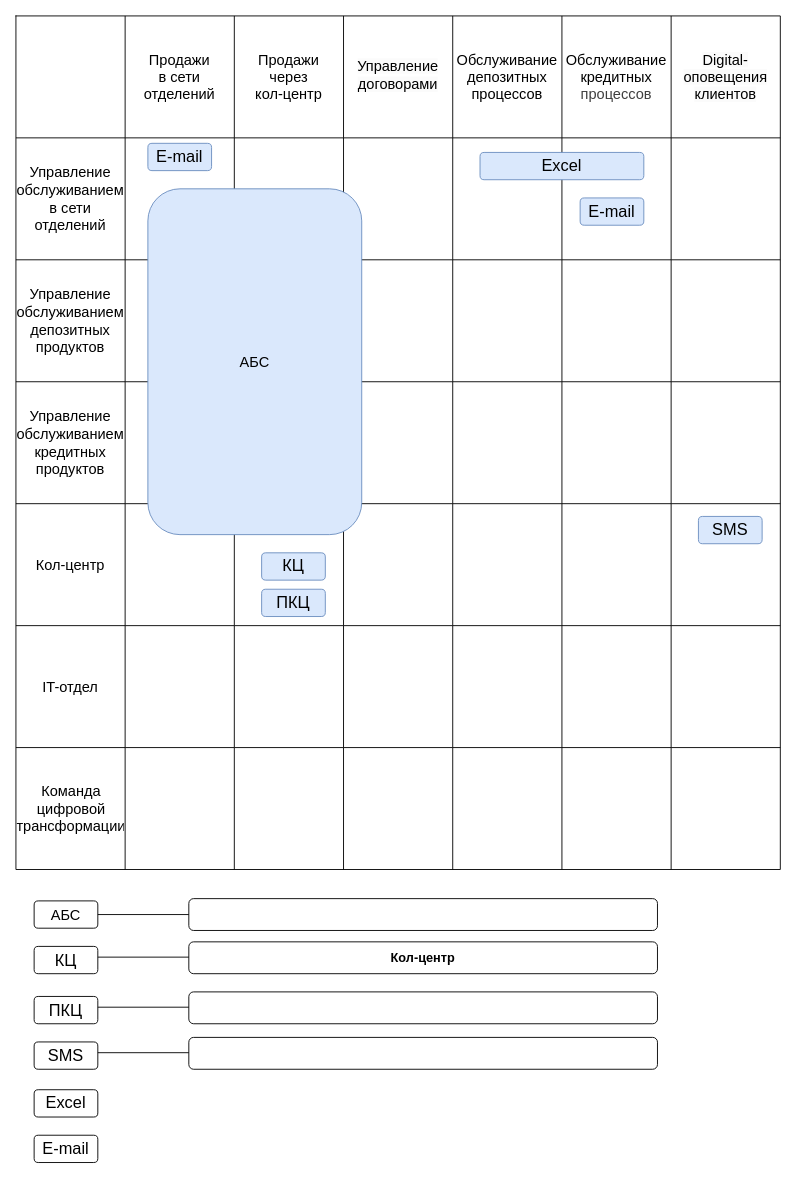
This 796x1178 diagram has some shape labels left out. Here are the shapes that lost their labels. From the top down, the box of each, then its label:
(188, 898, 657, 930): Автоматизированная банковская система (АБС)
(188, 991, 657, 1024): Партнерский Кол-центр
(188, 1036, 657, 1069): СМС шлюз
